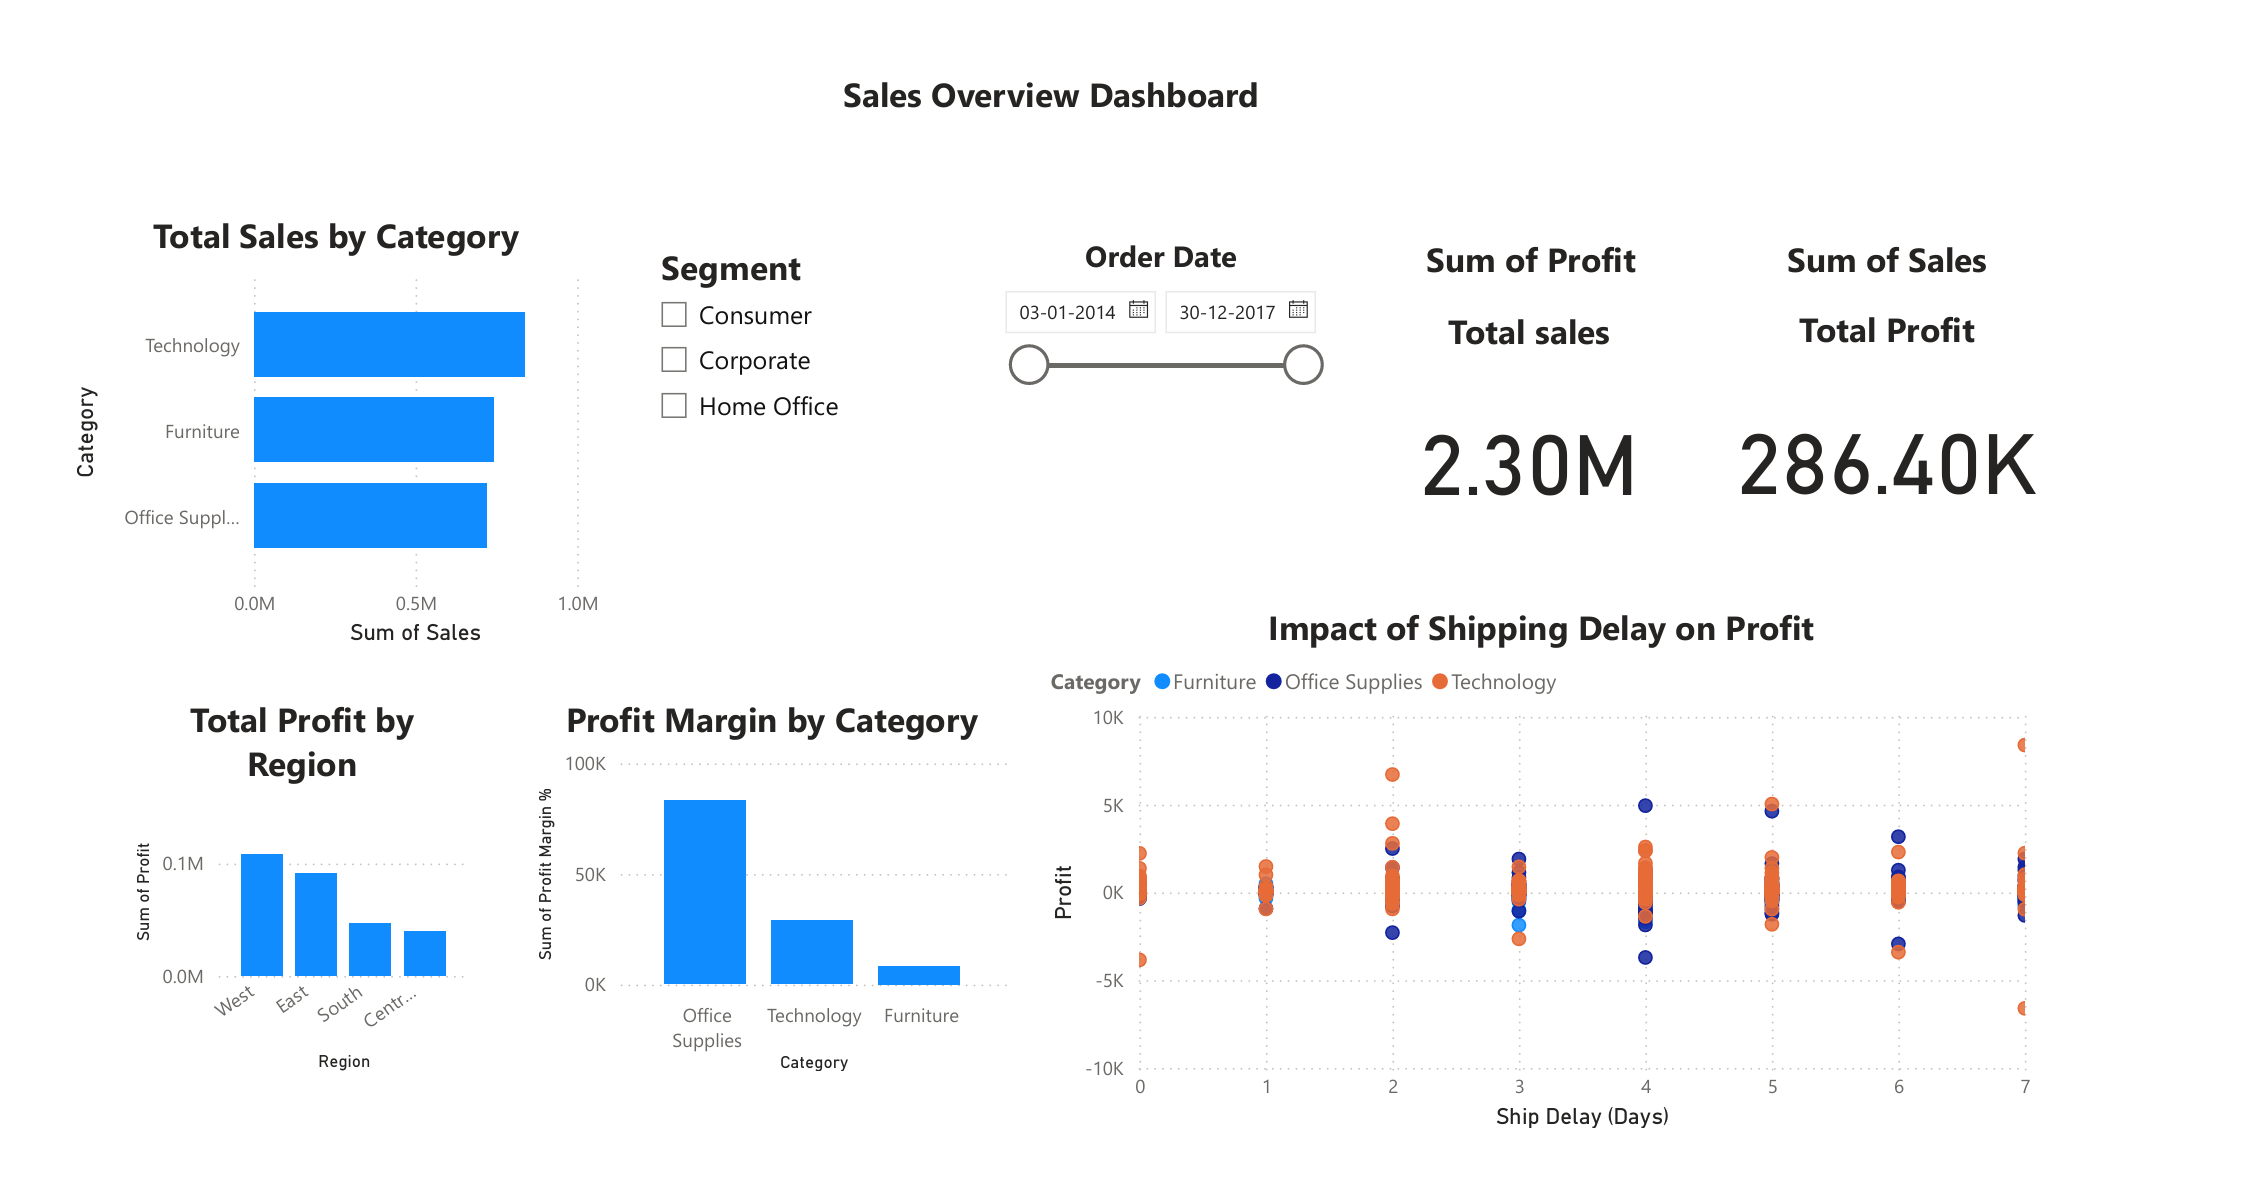

What the dashboard file says about the page in this screenshot:
{"tool":"powerbi","page":{"name":"Sales Overview Dashboard","canvas":[1280,720],"ordinal":0},"visuals":[{"type":"kpi","fields":{"Indicator":["Sum(superstore_sales_cleaned (1).Sales)"]},"box":[1065.8,124.9,214.2,30.6],"z":0},{"type":"kpi","fields":{"Indicator":["Sum(superstore_sales_cleaned (1).Profit)"]},"box":[833.8,124.9,224.4,30.6],"z":1000},{"type":"clusteredBarChart","title":"Total Sales by Category","fields":{"Category":["superstore_sales_cleaned (1).Category"],"Y":["Sum(superstore_sales_cleaned (1).Sales)"]},"box":[11.5,109.6,345.5,280.5],"z":2000},{"type":"clusteredColumnChart","title":"Total Profit by Region","fields":{"Category":["superstore_sales_cleaned (1).Region"],"Y":["Sum(superstore_sales_cleaned (1).Profit)"]},"box":[51,418.2,223.1,243.5],"z":3000},{"type":"slicer","fields":{"Values":["superstore_sales_cleaned (1).Segment"]},"box":[378.6,124.9,190,140.2],"z":4000},{"type":"slicer","title":"Order Date","fields":{"Values":["superstore_sales_cleaned (1).Order Date"]},"box":[597.9,124.9,224.4,140.2],"z":5000},{"type":"card","title":"Total sales","fields":{"Values":["Sum(superstore_sales_cleaned (1).Sales)"]},"box":[850.4,170.8,188.7,156.8],"z":6000},{"type":"card","title":"Total Profit","fields":{"Values":["Sum(superstore_sales_cleaned (1).Profit)"]},"box":[1065.8,169.6,214.2,158.1],"z":7000},{"type":"clusteredColumnChart","title":"Profit Margin by Category","fields":{"Category":["superstore_sales_cleaned (1).Category"],"Y":["Sum(superstore_sales_cleaned (1).Profit Margin %)"]},"box":[307.3,418.2,309.8,243.5],"z":8000},{"type":"scatterChart","title":"Impact of Shipping Delay on Profit","fields":{"X":["superstore_sales_cleaned (1).Ship Delay (Days)"],"Y":["superstore_sales_cleaned (1).Profit"],"Series":["superstore_sales_cleaned (1).Category"]},"box":[634.9,359.5,634.9,339.1],"z":9000},{"type":"textbox","title":"Sales Overview Dashboard","box":[467.9,21.7,344.2,37],"z":9001}]}

Visuals, with their boxes on the page's 1280x720 design canvas (x1, y1, x2, y2). These are canvas units, not pixel positions in the 2253x1197 screenshot, which may show the page scaled, cropped or inside an application window:
kpi - Sum(superstore_sales_cleaned (1).Sales): locate(1066, 125, 1280, 156)
kpi - Sum(superstore_sales_cleaned (1).Profit): locate(834, 125, 1058, 156)
"Total Sales by Category" clusteredBarChart: locate(12, 110, 357, 390)
"Total Profit by Region" clusteredColumnChart: locate(51, 418, 274, 662)
slicer - superstore_sales_cleaned (1).Segment: locate(379, 125, 569, 265)
"Order Date" slicer: locate(598, 125, 822, 265)
"Total sales" card: locate(850, 171, 1039, 328)
"Total Profit" card: locate(1066, 170, 1280, 328)
"Profit Margin by Category" clusteredColumnChart: locate(307, 418, 617, 662)
"Impact of Shipping Delay on Profit" scatterChart: locate(635, 360, 1270, 699)
"Sales Overview Dashboard" textbox: locate(468, 22, 812, 59)
